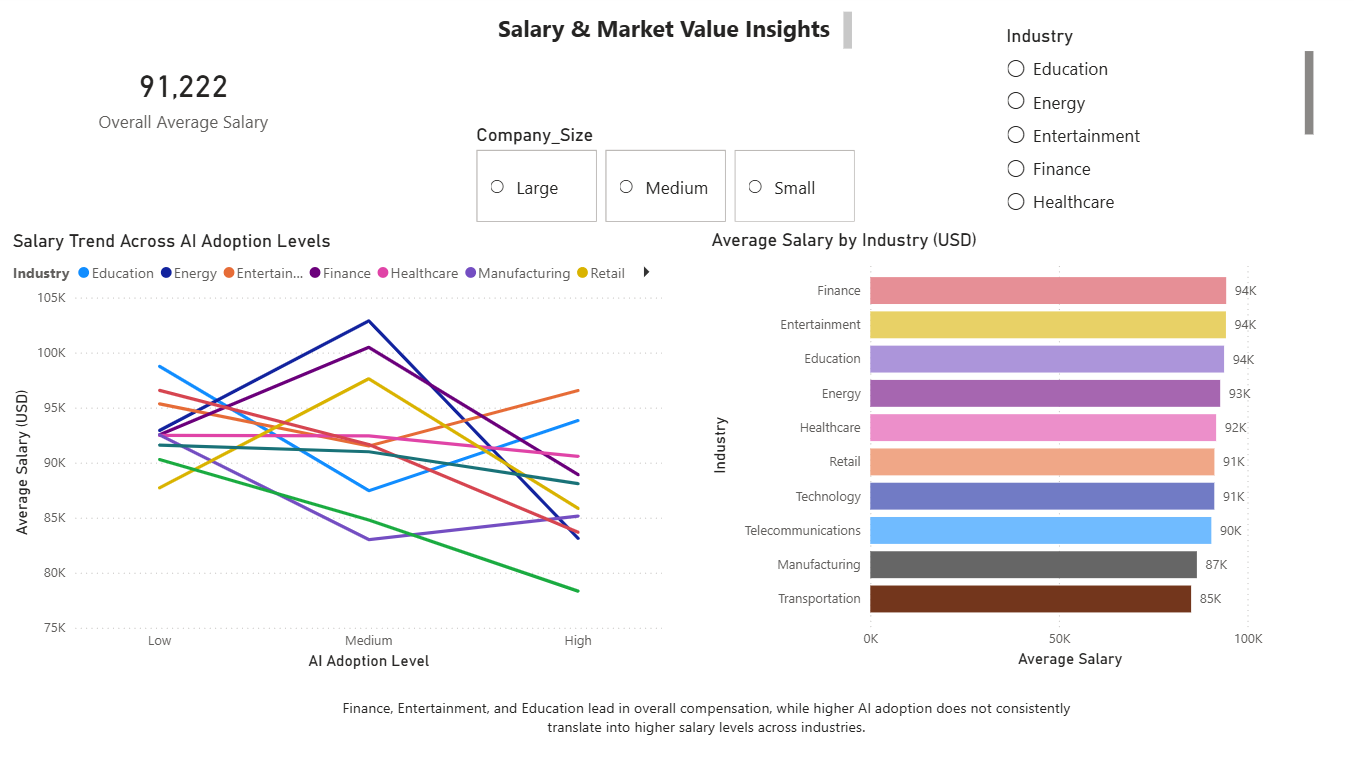

This screenshot's page, from the dashboard's own definition file:
{"tool":"powerbi","page":{"name":"Salary and Market Value","canvas":[1280,720],"ordinal":2},"visuals":[{"type":"lineChart","title":"Salary Trend Across AI Adoption Levels","fields":{"Category":["ai_job_market_insights.AI_Adoption_Level"],"Y":["Avg(ai_job_market_insights.Salary_USD)"],"Series":["ai_job_market_insights.Industry"]},"box":[25.7,219.6,613.8,413.5],"z":0},{"type":"card","title":"Overall Average Salary (USD)","fields":{"Values":["Avg(ai_job_market_insights.Salary_USD)"]},"box":[25.7,0,327.4,188.8],"z":1000},{"type":"textbox","box":[464,11.6,352.3,50],"z":2000},{"type":"clusteredBarChart","title":"Average Salary by Industry (USD)","fields":{"Y":["Avg(ai_job_market_insights.Overall Average Salary)"],"Category":["ai_job_market_insights.Industry"]},"box":[676,219,543.8,412.9],"z":3000},{"type":"textbox","box":[324.8,649.6,702.4,70.5],"z":4000},{"type":"advancedSlicerVisual","fields":{"Values":["ai_job_market_insights.Company_Size"]},"box":[457.1,120.7,364.7,96.3],"z":5000},{"type":"listSlicer","fields":{"Values":["ai_job_market_insights.Industry"]},"box":[950.2,29.5,295.3,187.5],"z":6000}]}

Visuals, with their boxes in screenshot pixels (x1, y1, x2, y2), scaled from the page's 1280x720 canvas onto the 1354x762 screenshot:
"Salary Trend Across AI Adoption Levels" lineChart: 27 232 676 670
"Overall Average Salary (USD)" card: 27 0 374 200
textbox: 491 12 863 65
"Average Salary by Industry (USD)" clusteredBarChart: 715 232 1290 669
textbox: 344 687 1087 761
advancedSlicerVisual - ai_job_market_insights.Company_Size: 484 128 869 230
listSlicer - ai_job_market_insights.Industry: 1005 31 1318 230
